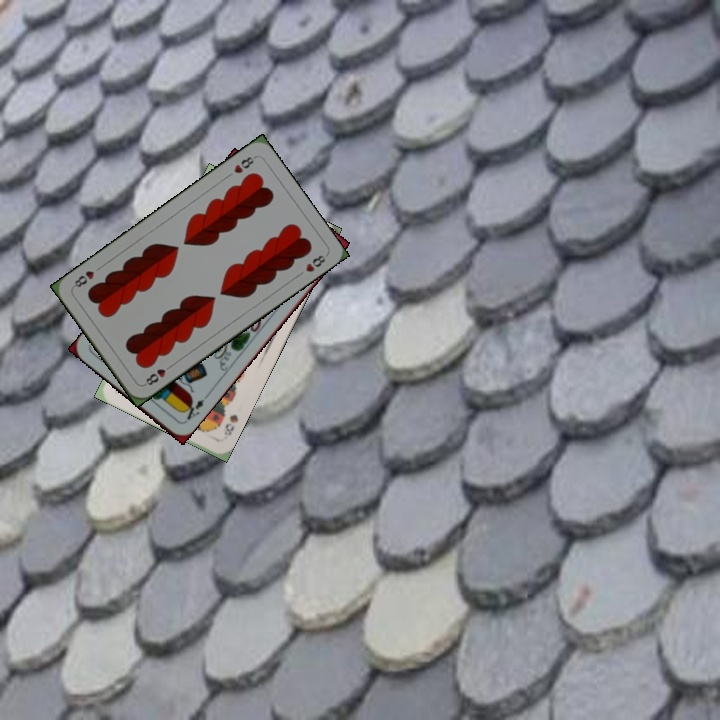EA: (178, 391, 211, 424)
H8: (140, 360, 175, 388), (230, 152, 258, 176)
S8: (220, 410, 241, 439)
